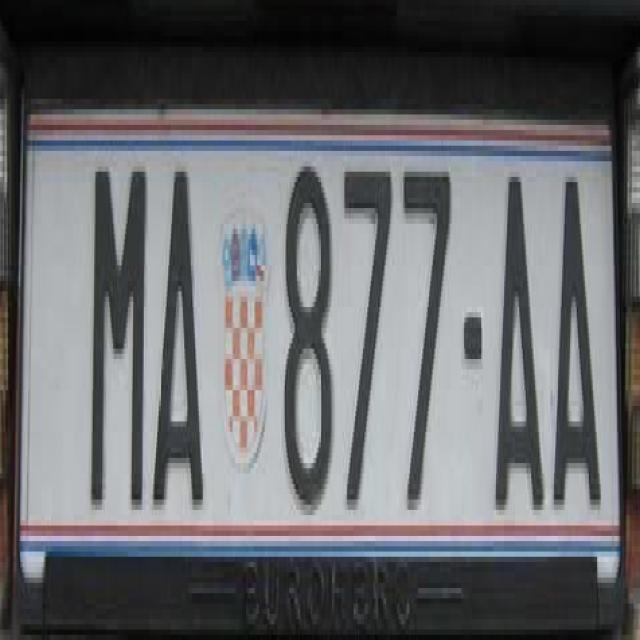Autre: (23, 111, 621, 570)
